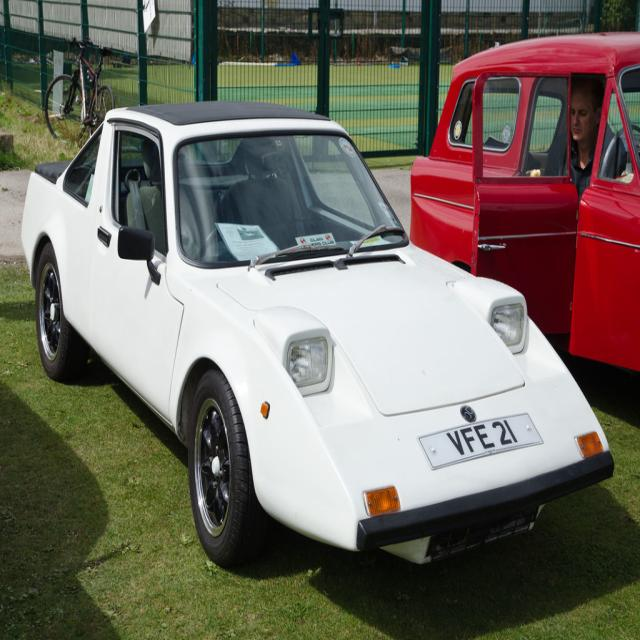car: (0, 112, 577, 582)
